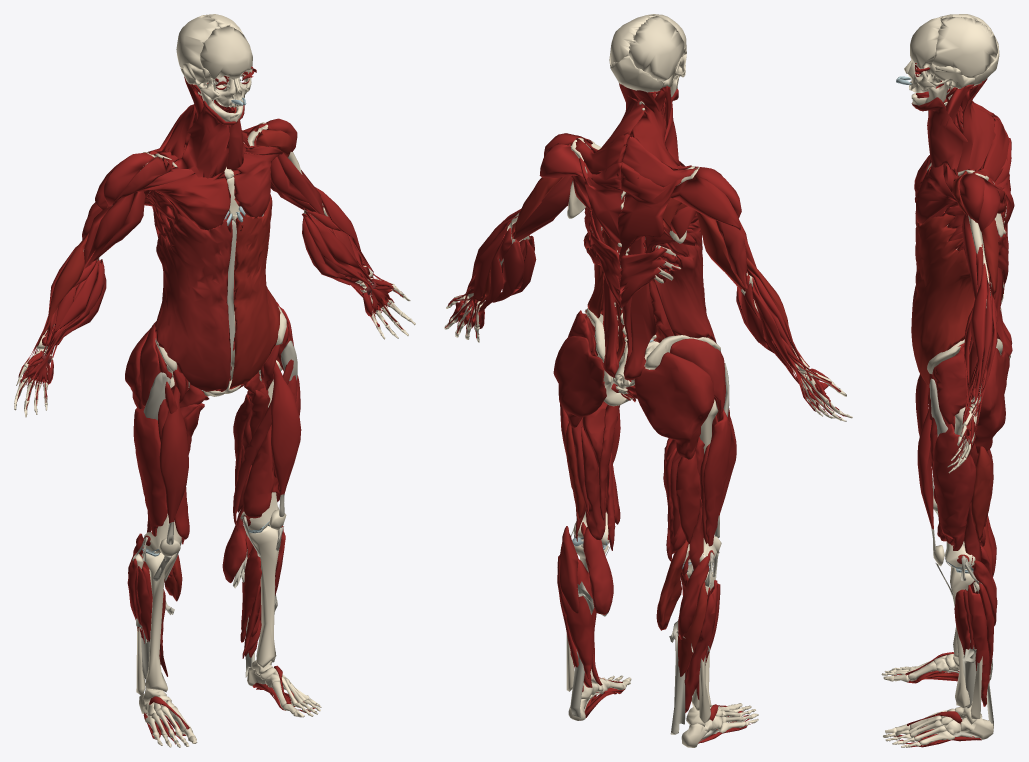
File: f-muscles.glb
3 views of the same model, side by side, from view 1: azimuth 30°, elevation 25°; view 2: azimuth 150°, elevation 25°; view 3: azimuth 270°, elevation 25° (orthographic). The views are drawn at different scales.
Parts seen in each view (by area): view 1: muscle, bone; view 2: muscle, bone; view 3: muscle, bone.
Boxes of the visible parts, left/top/right/bottom form: muscle: left=16, top=66, right=403, bottom=744; bone: left=14, top=14, right=415, bottom=747; muscle: left=445, top=83, right=846, bottom=743; bone: left=444, top=14, right=852, bottom=747; muscle: left=894, top=63, right=1014, bottom=747; bone: left=881, top=14, right=1010, bottom=747.
Size of the model in its own units: 1.01 by 1.66 by 0.2879.
